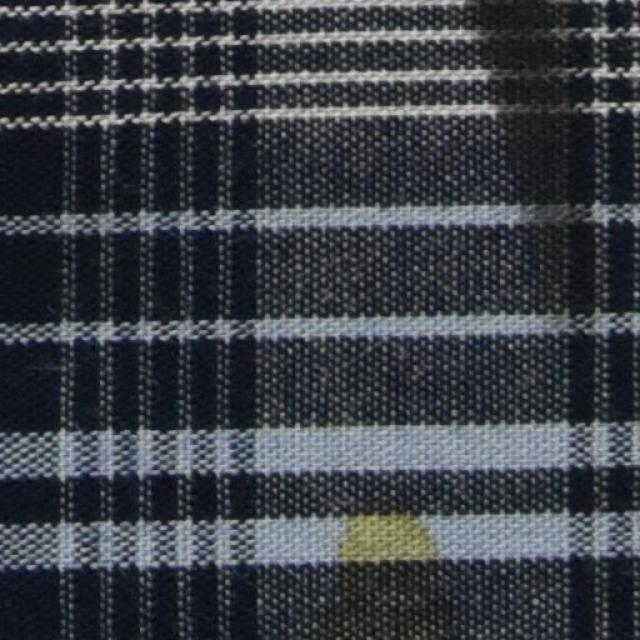Stain: (463, 0, 596, 311), (311, 489, 441, 625)
